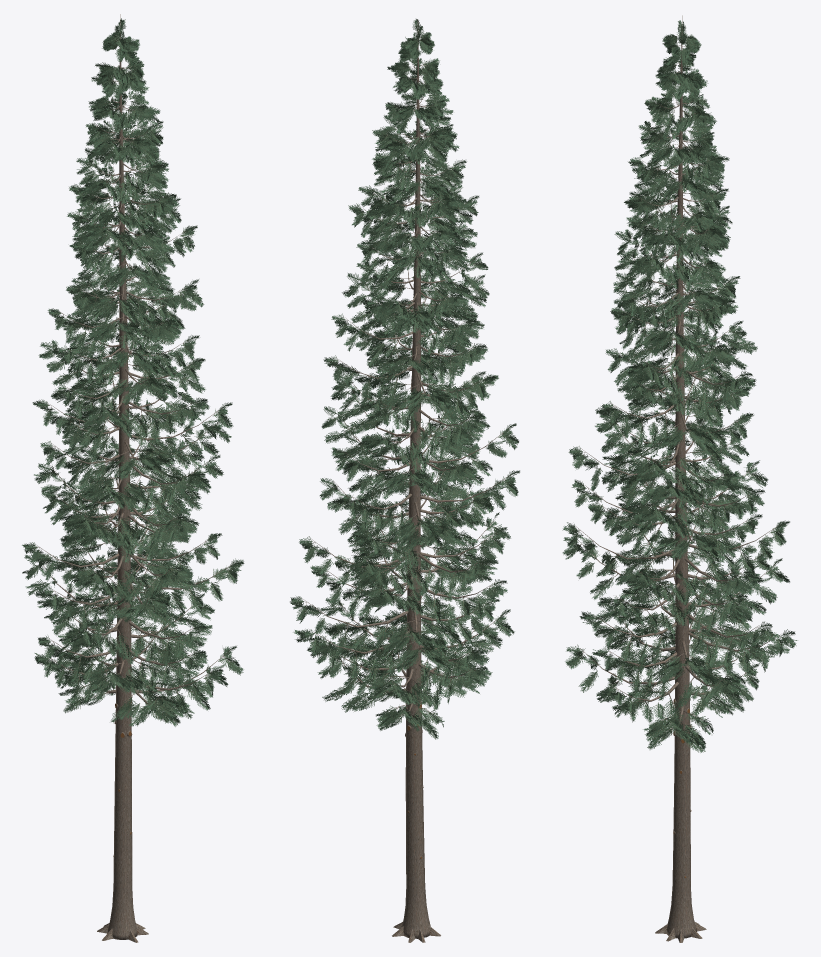
File: Sitka_Mature_Benchmark_01_LowPruned_Recent_LOD0.fbx
3 renders of one model, left to right at view 1: azimuth 30°, elevation 25°; view 2: azimuth 150°, elevation 25°; view 3: azimuth 270°, elevation 25°, orthographic.
Visible parts, largest first — view 1: Sitka_Mature_Benchmark_01_LowPruned_Recent_LOD0_Foliage, Sitka_Mature_Benchmark_01_LowPruned_Recent_LOD0_Trunk, Sitka_Mature_Benchmark_01_LowPruned_Recent_LOD0_Branches; view 2: Sitka_Mature_Benchmark_01_LowPruned_Recent_LOD0_Foliage, Sitka_Mature_Benchmark_01_LowPruned_Recent_LOD0_Trunk, Sitka_Mature_Benchmark_01_LowPruned_Recent_LOD0_Branches; view 3: Sitka_Mature_Benchmark_01_LowPruned_Recent_LOD0_Foliage, Sitka_Mature_Benchmark_01_LowPruned_Recent_LOD0_Trunk, Sitka_Mature_Benchmark_01_LowPruned_Recent_LOD0_Branches.
Boxes of the visible parts, x1=… form: Sitka_Mature_Benchmark_01_LowPruned_Recent_LOD0_Foliage: x1=22, y1=18, x2=244, y2=726; Sitka_Mature_Benchmark_01_LowPruned_Recent_LOD0_Trunk: x1=97, y1=14, x2=148, y2=942; Sitka_Mature_Benchmark_01_LowPruned_Recent_LOD0_Branches: x1=37, y1=35, x2=233, y2=707; Sitka_Mature_Benchmark_01_LowPruned_Recent_LOD0_Foliage: x1=290, y1=19, x2=519, y2=739; Sitka_Mature_Benchmark_01_LowPruned_Recent_LOD0_Trunk: x1=392, y1=19, x2=440, y2=942; Sitka_Mature_Benchmark_01_LowPruned_Recent_LOD0_Branches: x1=300, y1=38, x2=508, y2=719; Sitka_Mature_Benchmark_01_LowPruned_Recent_LOD0_Foliage: x1=562, y1=20, x2=797, y2=752; Sitka_Mature_Benchmark_01_LowPruned_Recent_LOD0_Trunk: x1=655, y1=15, x2=706, y2=942; Sitka_Mature_Benchmark_01_LowPruned_Recent_LOD0_Branches: x1=576, y1=37, x2=784, y2=733.
Bounding box in the file's own units: 620 × 2600 × 644.
3 materials, 3 textured.
